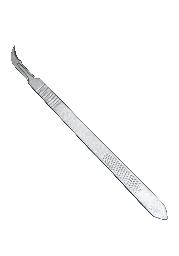scalpel: (9, 44, 168, 220)
